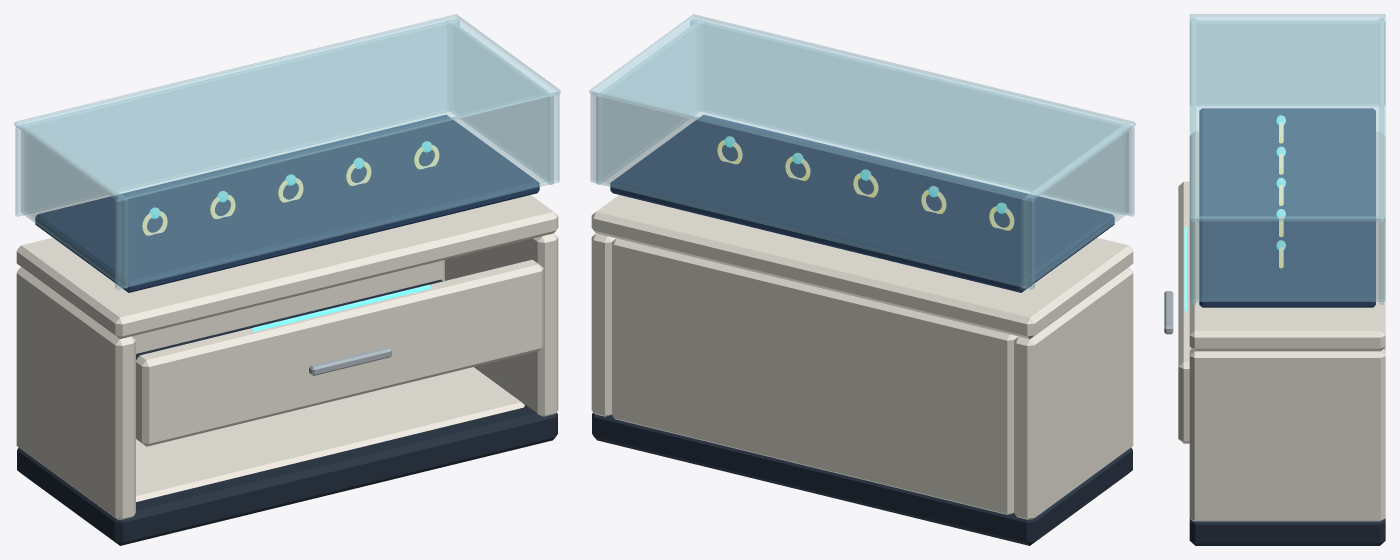
The model's file is mall_03.glb.
3 renders of one model, left to right at view 1: azimuth 30°, elevation 25°; view 2: azimuth 150°, elevation 25°; view 3: azimuth 270°, elevation 25°, orthographic. The views are drawn at different scales.
Visible parts, largest first — view 1: DisplayGlass (×2), DisplayGlassTop, DisplayBed, DrawerFace, Side (×2), Top, Base, Bottom, DisplayGlassSide (×2), Back, Handle, DrawerBase (+1 smaller); view 2: DisplayGlass (×2), Back, DisplayGlassTop, DisplayBed, Side (×2), Top, DisplayGlassSide (×2), Base; view 3: DisplayGlassTop, DisplayBed, Side, DisplayGlassSide (×2), Top, Base, DrawerFace, DisplayGlass (×2), Handle.
Boxes of the visible parts, x1,y1,x2,y2 form: DisplayGlass (×2): [15, 19, 559, 289]; DisplayGlassTop: [14, 14, 560, 201]; DisplayBed: [35, 115, 539, 292]; DrawerFace: [136, 259, 543, 446]; Side (×2): [16, 233, 558, 520]; Top: [16, 195, 558, 338]; Base: [17, 367, 557, 545]; Bottom: [136, 367, 524, 501]; DisplayGlassSide (×2): [21, 20, 553, 288]; Back: [131, 260, 444, 353]; Handle: [309, 346, 391, 375]; DrawerBase: [136, 279, 442, 359]; DisplayGlass (×2): [590, 19, 1134, 289]; Back: [612, 238, 1018, 514]; DisplayGlassTop: [589, 14, 1135, 201]; DisplayBed: [610, 115, 1114, 292]; Side (×2): [591, 233, 1133, 520]; Top: [591, 195, 1133, 338]; DisplayGlassSide (×2): [596, 20, 1128, 288]; Base: [592, 413, 1132, 545]; DisplayGlassTop: [1189, 14, 1385, 221]; DisplayBed: [1199, 108, 1375, 307]; Side: [1189, 349, 1385, 521]; DisplayGlassSide (×2): [1189, 21, 1385, 301]; Top: [1189, 131, 1385, 351]; Base: [1189, 519, 1385, 545]; DrawerFace: [1178, 181, 1191, 443]; DisplayGlass (×2): [1191, 18, 1383, 304]; Handle: [1164, 291, 1173, 334].
Bounding box in the file's own units: 1.5 × 1.14 × 0.689.
